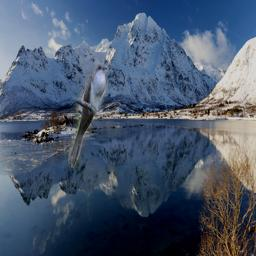Cuckoo: (68, 62, 108, 168)
